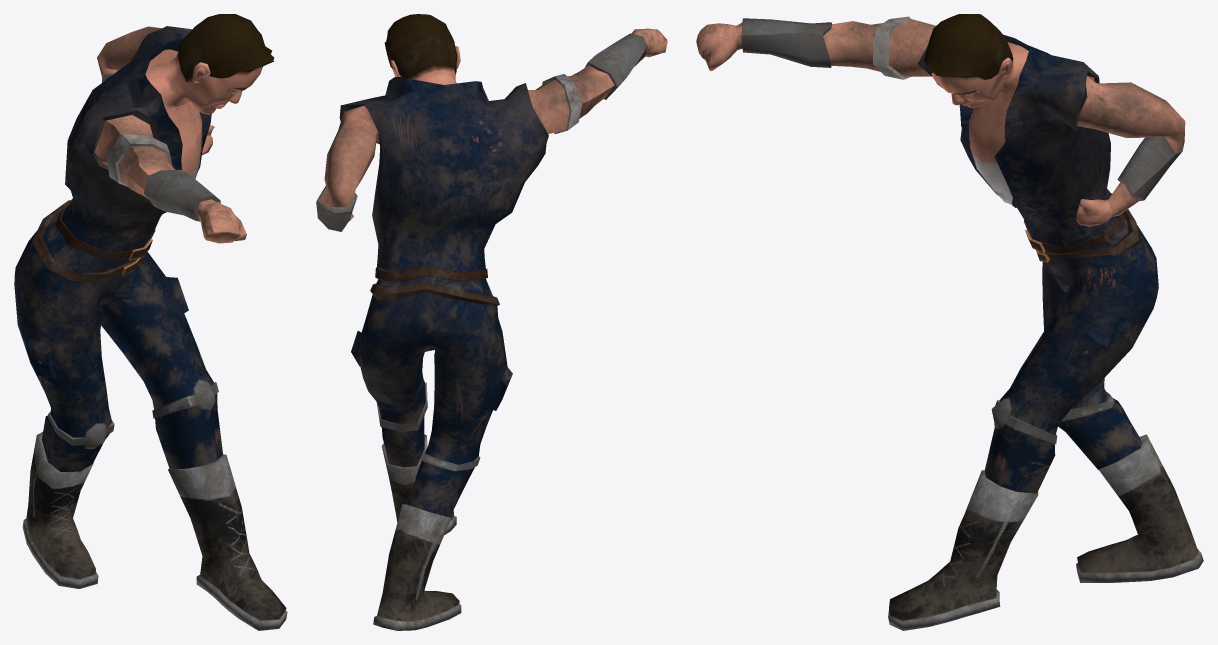
Rendered from Anim_ataque_d1_jugador.0024.obj.
3 renders of one model, left to right at view 1: azimuth 30°, elevation 25°; view 2: azimuth 150°, elevation 25°; view 3: azimuth 270°, elevation 25°, orthographic. The views are drawn at different scales.
Visible parts, largest first — view 1: polySurface1; view 2: polySurface1; view 3: polySurface1.
Part boxes in pixels (x1,y1,x2,y2): polySurface1: (14,14,287,630); polySurface1: (316,14,667,630); polySurface1: (696,14,1203,630).
Size of the model in its own units: 2.99 by 8.65 by 6.6.
